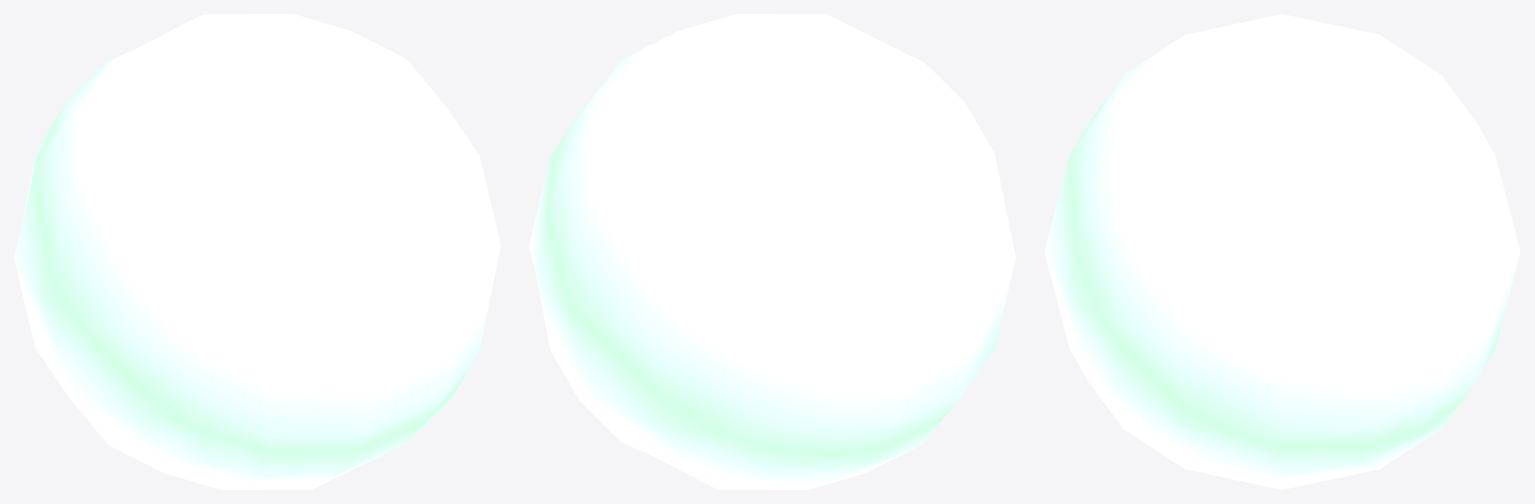
Rendered from CalizBrillo.glb.
The picture shows the model from 3 angles, left to right: view 1: azimuth 30°, elevation 25°; view 2: azimuth 150°, elevation 25°; view 3: azimuth 270°, elevation 25°; orthographic projection. The views are drawn at different scales.
Visible parts, largest first — view 1: CalizBrillo; view 2: CalizBrillo; view 3: CalizBrillo.
Part boxes in pixels (x1,y1,x2,y2): CalizBrillo: (14, 14, 500, 489); CalizBrillo: (529, 14, 1015, 489); CalizBrillo: (1044, 14, 1520, 489).
Size of the model in its own units: 0.6 by 0.6 by 0.6.
